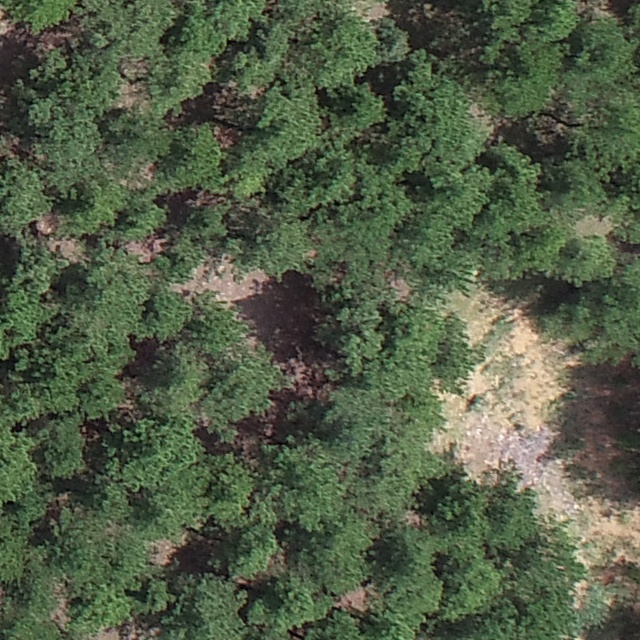unhealthy: (280, 355, 317, 398), (113, 76, 150, 116), (120, 236, 169, 265), (335, 585, 372, 615), (387, 274, 413, 302)
